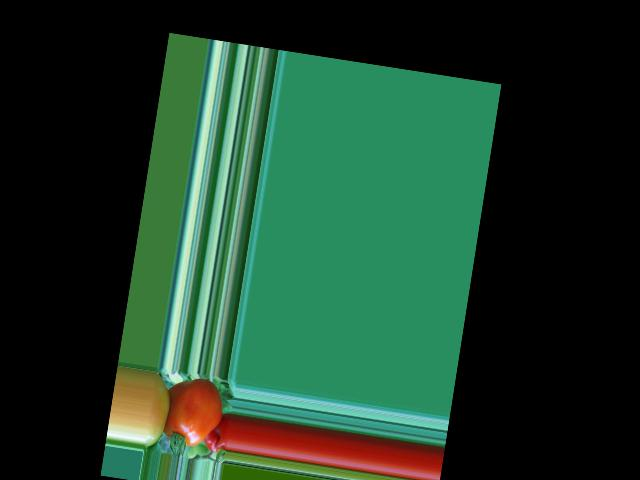tomato: (162, 374, 226, 450)
